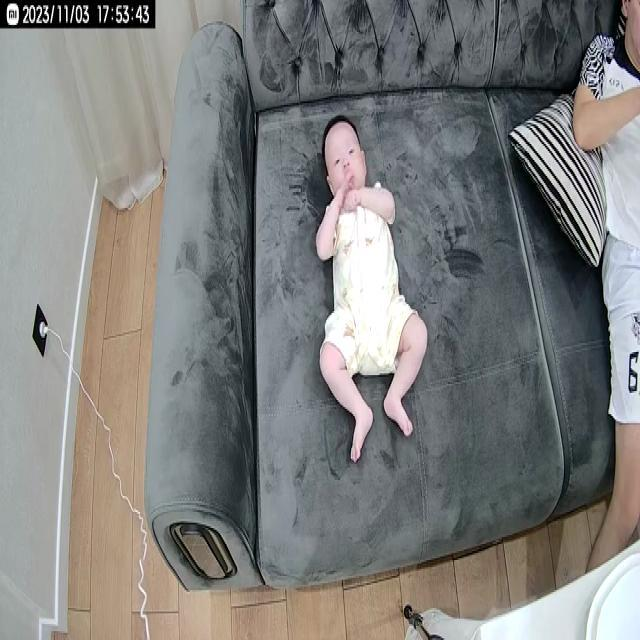baby: (312, 112, 430, 470)
